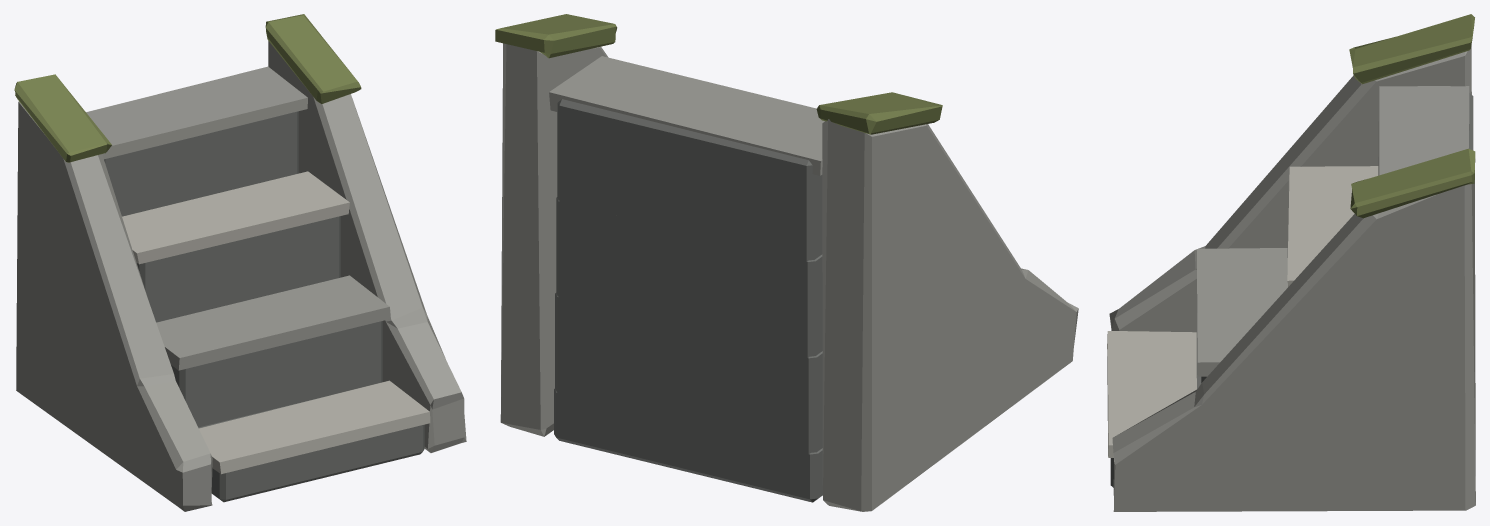
File: stairs_heath.glb
The picture shows the model from 3 angles, left to right: view 1: azimuth 30°, elevation 25°; view 2: azimuth 150°, elevation 25°; view 3: azimuth 270°, elevation 25°; orthographic projection. The views are drawn at different scales.
Parts seen in each view (by area): view 1: stairs_heath; view 2: stairs_heath; view 3: stairs_heath.
Part boxes in pixels (x1,y1,x2,y2): stairs_heath: [14, 14, 466, 511]; stairs_heath: [495, 14, 1078, 511]; stairs_heath: [1107, 14, 1475, 511].
Bounding box in the file's own units: 1.04 × 1.06 × 1.02.
